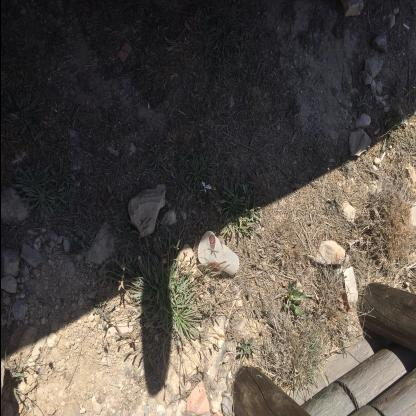plastik: (196, 230, 238, 274)
